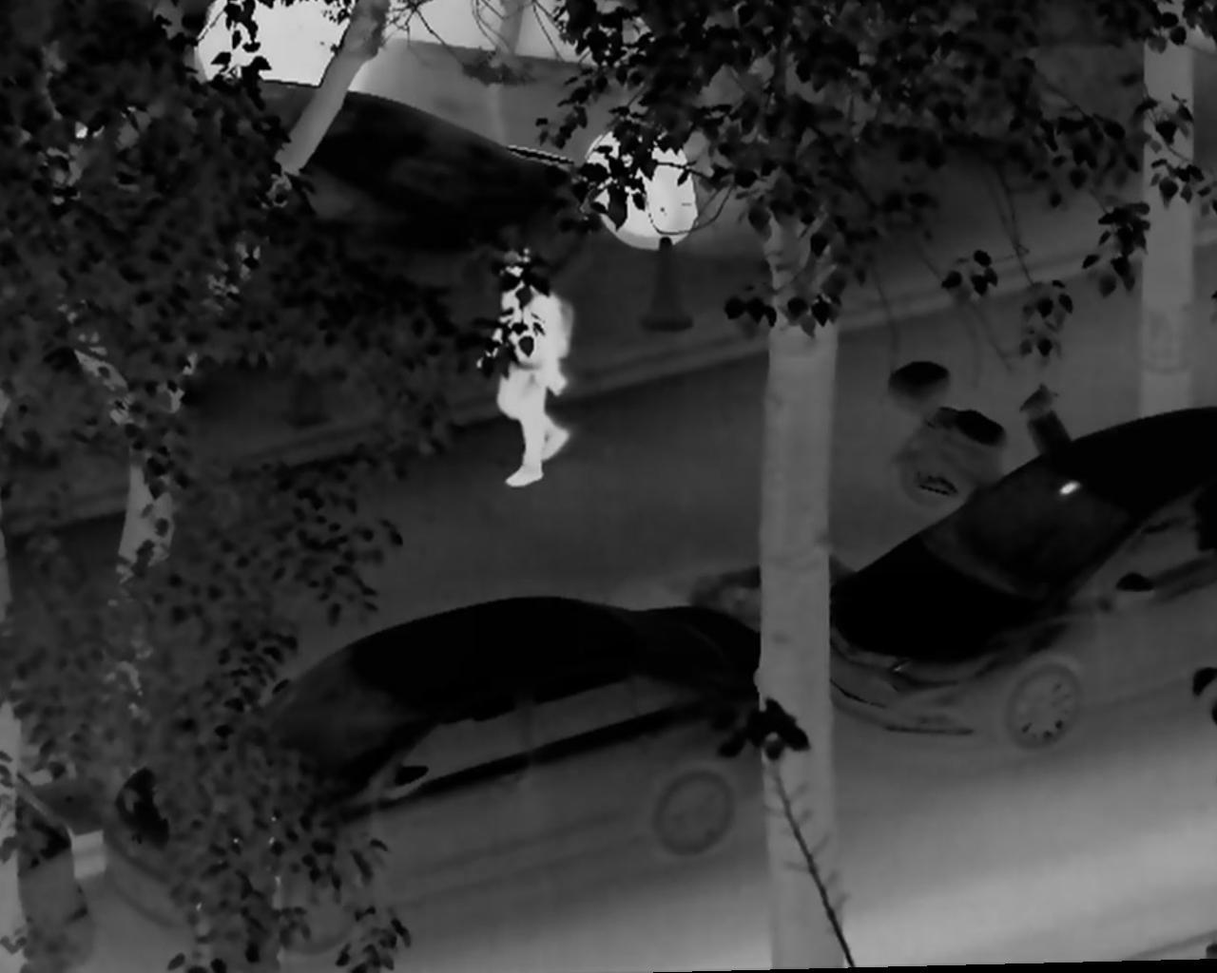person: (466, 242, 578, 488)
